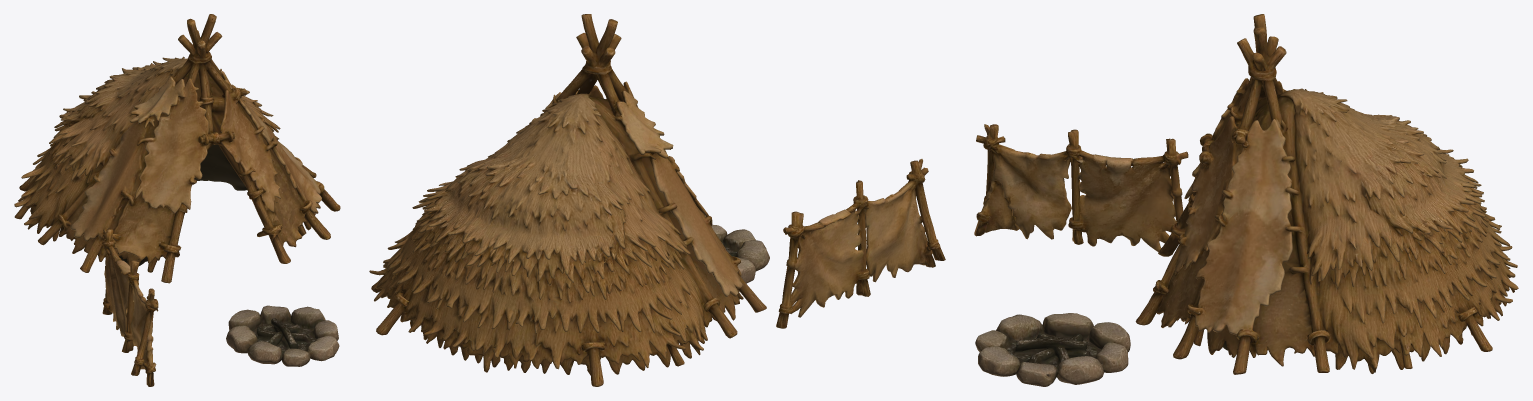
Rendered from Band Camp (Western).fbx.
The picture shows the model from 3 angles, left to right: view 1: azimuth 30°, elevation 25°; view 2: azimuth 150°, elevation 25°; view 3: azimuth 270°, elevation 25°; orthographic projection. The views are drawn at different scales.
Parts seen in each view (by area): view 1: tripo_part_0, tripo_part_3, tripo_part_2, tripo_part_4, tripo_part_5, tripo_part_6, tripo_part_8, tripo_part_9, tripo_part_11, tripo_part_1, tripo_part_7; view 2: tripo_part_0, tripo_part_2, tripo_part_1, tripo_part_4, tripo_part_3, tripo_part_11; view 3: tripo_part_0, tripo_part_2, tripo_part_3, tripo_part_4, tripo_part_1, tripo_part_5, tripo_part_10, tripo_part_7, tripo_part_9, tripo_part_6.
Boxes of the visible parts, x1,y1,x2,y2 form: tripo_part_0: [14, 56, 321, 266]; tripo_part_3: [226, 305, 339, 366]; tripo_part_2: [102, 228, 158, 386]; tripo_part_4: [173, 14, 246, 133]; tripo_part_5: [242, 175, 290, 263]; tripo_part_6: [159, 205, 187, 283]; tripo_part_8: [80, 228, 120, 272]; tripo_part_9: [299, 200, 330, 239]; tripo_part_11: [38, 210, 73, 245]; tripo_part_1: [14, 163, 60, 241]; tripo_part_7: [316, 181, 340, 211]; tripo_part_0: [369, 81, 743, 372]; tripo_part_2: [776, 159, 945, 328]; tripo_part_1: [371, 276, 704, 386]; tripo_part_4: [556, 14, 625, 116]; tripo_part_3: [711, 224, 769, 283]; tripo_part_11: [703, 291, 737, 338]; tripo_part_0: [1156, 78, 1518, 372]; tripo_part_2: [974, 124, 1188, 251]; tripo_part_3: [975, 313, 1130, 386]; tripo_part_4: [1214, 14, 1286, 146]; tripo_part_1: [1335, 305, 1492, 373]; tripo_part_5: [1135, 233, 1184, 325]; tripo_part_10: [1307, 317, 1329, 372]; tripo_part_7: [1233, 326, 1259, 374]; tripo_part_9: [1173, 304, 1206, 359]; tripo_part_6: [1158, 194, 1195, 256].
Size of the model in its own units: 0.8507 by 0.683 by 1.
